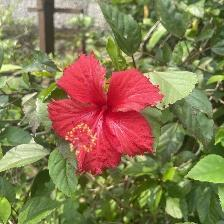hibiscus: (45, 50, 168, 179)
